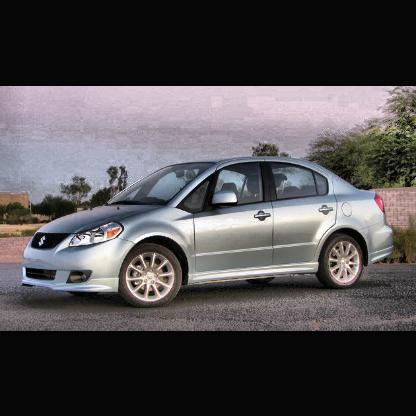Suzuki SX4 Sedan 2012: (21, 156, 396, 310)
